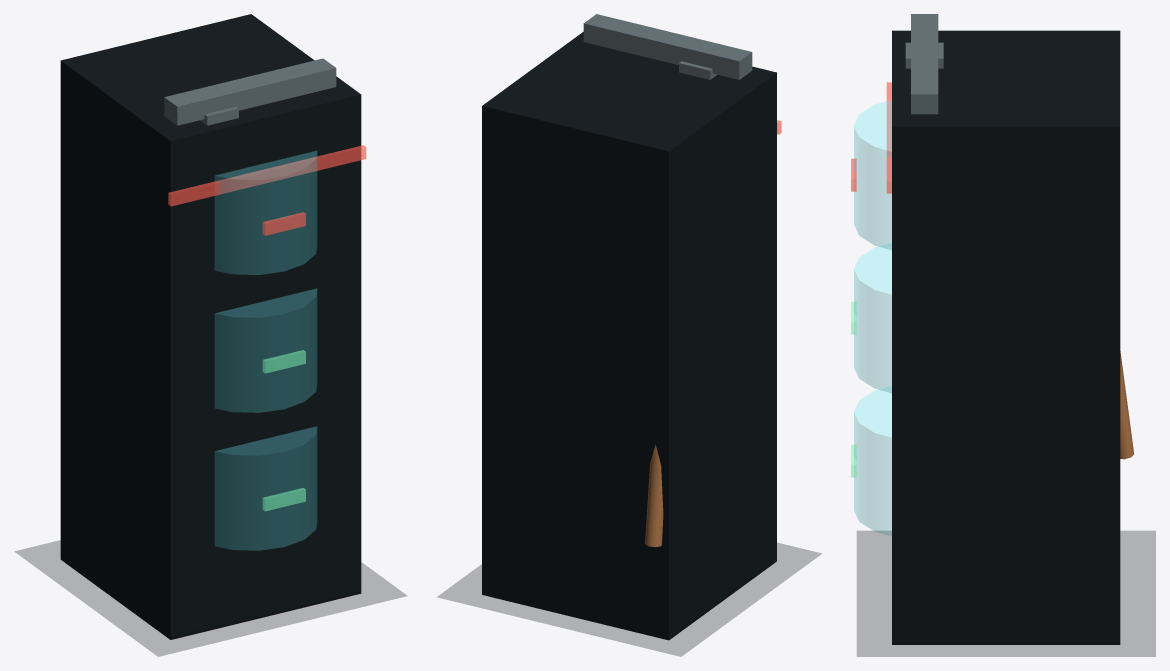
The model's file is hp_room_cyber_organ_printer.glb.
3 renders of one model, left to right at view 1: azimuth 30°, elevation 25°; view 2: azimuth 150°, elevation 25°; view 3: azimuth 270°, elevation 25°, orthographic. The views are drawn at different scales.
Parts seen in each view (by area): view 1: tower_chassis, vat_0, vat_1, vat_2, contact_shadow, printer_head_rail, danger_band, vat_glow_1, vat_glow_2, vat_glow_0; view 2: tower_chassis, contact_shadow, printer_head_rail, feed_line; view 3: tower_chassis, contact_shadow, vat_0, vat_1, vat_2, printer_head_rail, feed_line, danger_band.
Boxes of the visible parts, left/top/right/bottom form: tower_chassis: left=60, top=14, right=361, bottom=639; vat_0: left=215, top=426, right=316, bottom=550; vat_1: left=215, top=289, right=316, bottom=412; vat_2: left=215, top=151, right=316, bottom=274; contact_shadow: left=15, top=540, right=406, bottom=656; printer_head_rail: left=164, top=58, right=336, bottom=125; danger_band: left=168, top=145, right=366, bottom=206; vat_glow_1: left=262, top=350, right=305, bottom=373; vat_glow_2: left=262, top=212, right=305, bottom=235; vat_glow_0: left=262, top=488, right=305, bottom=511; tower_chassis: left=482, top=32, right=776, bottom=640; contact_shadow: left=437, top=543, right=821, bottom=656; printer_head_rail: left=583, top=14, right=752, bottom=79; feed_line: left=645, top=445, right=663, bottom=547; tower_chassis: left=892, top=30, right=1120, bottom=644; contact_shadow: left=857, top=531, right=1155, bottom=656; vat_0: left=854, top=386, right=891, bottom=535; vat_1: left=854, top=243, right=891, bottom=392; vat_2: left=854, top=100, right=891, bottom=249; printer_head_rail: left=911, top=14, right=938, bottom=114; feed_line: left=1120, top=351, right=1133, bottom=459; danger_band: left=886, top=82, right=891, bottom=193.
Size of the model in its own units: 1.1 by 2.2 by 1.12.
